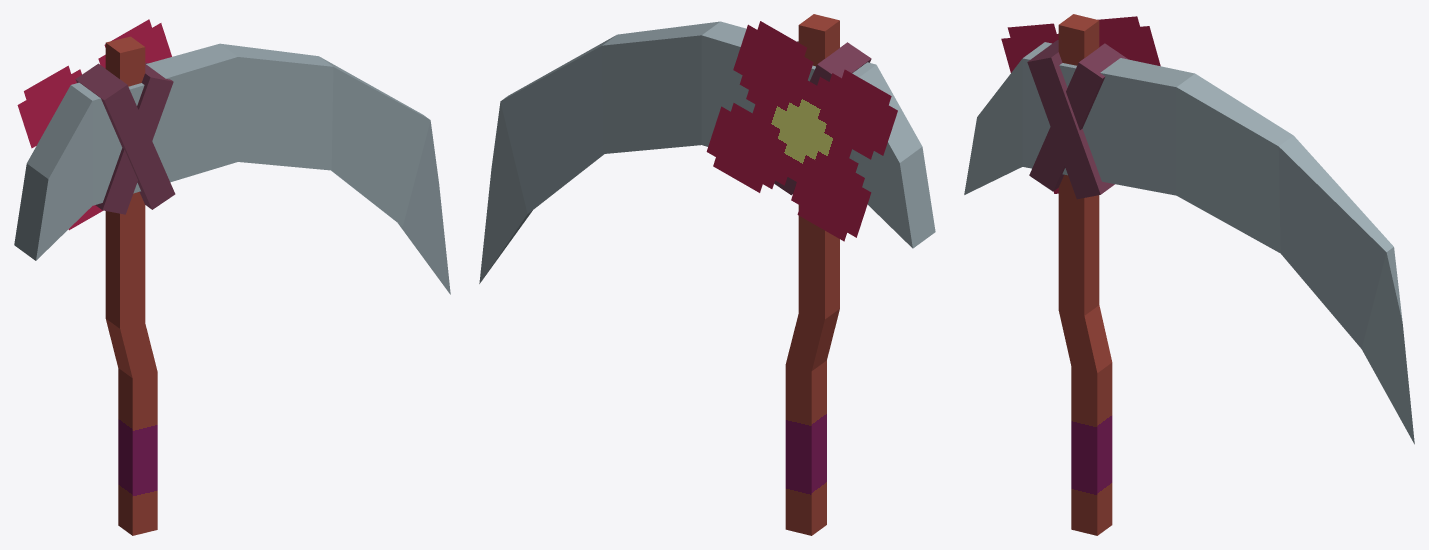
The model's file is Scythe.gltf.
3 renders of one model, left to right at view 1: azimuth 30°, elevation 25°; view 2: azimuth 150°, elevation 25°; view 3: azimuth 330°, elevation 25°, orthographic. The views are drawn at different scales.
Visible parts, largest first — view 1: cuboid (×4), plane; view 2: cuboid (×3), plane; view 3: cuboid (×4), plane.
Boxes of the visible parts, x1,y1,x2,y2 form: cuboid (×4): (14, 36, 450, 535); plane: (17, 19, 171, 230); cuboid (×3): (479, 14, 935, 535); plane: (706, 21, 897, 241); cuboid (×4): (964, 14, 1414, 535); plane: (1001, 16, 1160, 193).
Bounding box in the file's own units: 2.12 × 2.35 × 0.2656.
1 material, 1 textured.
